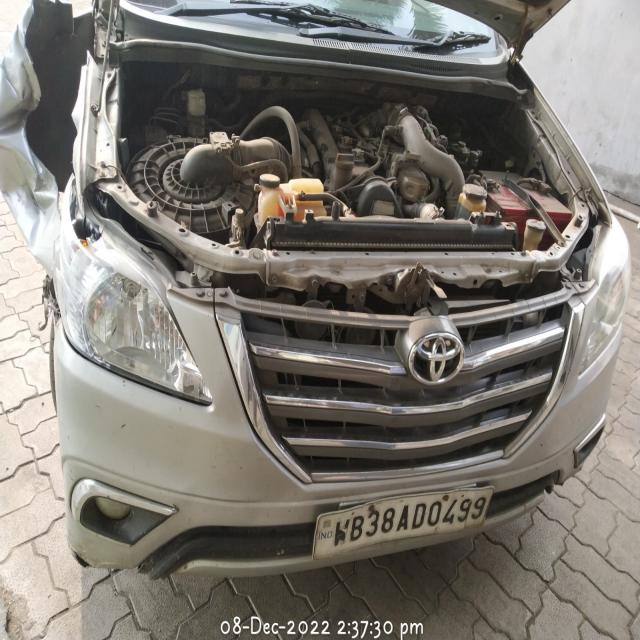damage: (1, 0, 92, 282), (66, 178, 140, 280)
